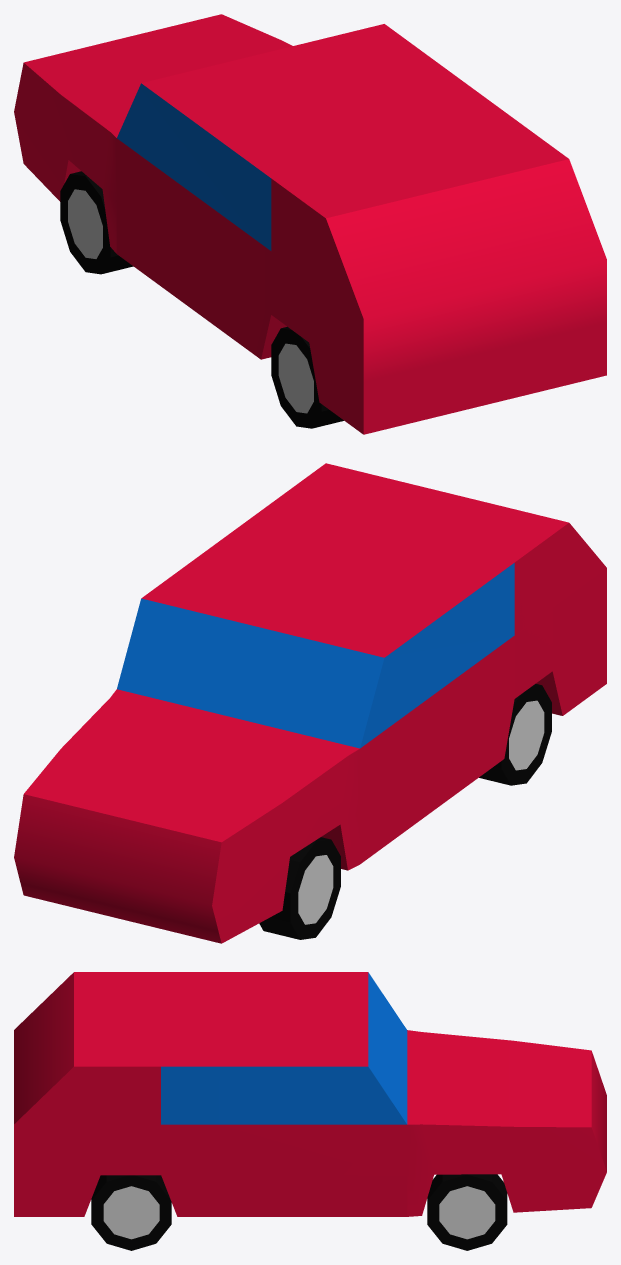
The model's file is Car.fbx.
3 views of the same model, one above another, from view 1: azimuth 30°, elevation 25°; view 2: azimuth 150°, elevation 25°; view 3: azimuth 270°, elevation 25° (orthographic). The views are drawn at different scales.
Parts seen in each view (by area): view 1: Body_Car, Front_Left_Wheel, Back_Left_Wheel; view 2: Body_Car, Front_Left_Wheel, Back_Left_Wheel; view 3: Body_Car, Front_Right_Wheel, Back_Right_Wheel.
Boxes of the visible parts, x1=… form: Body_Car: x1=14, y1=14, x2=606, y2=434; Front_Left_Wheel: x1=60, y1=171, x2=133, y2=274; Back_Left_Wheel: x1=271, y1=326, x2=343, y2=428; Body_Car: x1=14, y1=463, x2=606, y2=943; Front_Left_Wheel: x1=259, y1=837, x2=340, y2=939; Back_Left_Wheel: x1=479, y1=683, x2=551, y2=785; Body_Car: x1=14, y1=972, x2=606, y2=1216; Front_Right_Wheel: x1=427, y1=1174, x2=507, y2=1250; Back_Right_Wheel: x1=91, y1=1175, x2=171, y2=1250.
Bounding box in the file's own units: 9.78 × 9.07 × 25.92.
